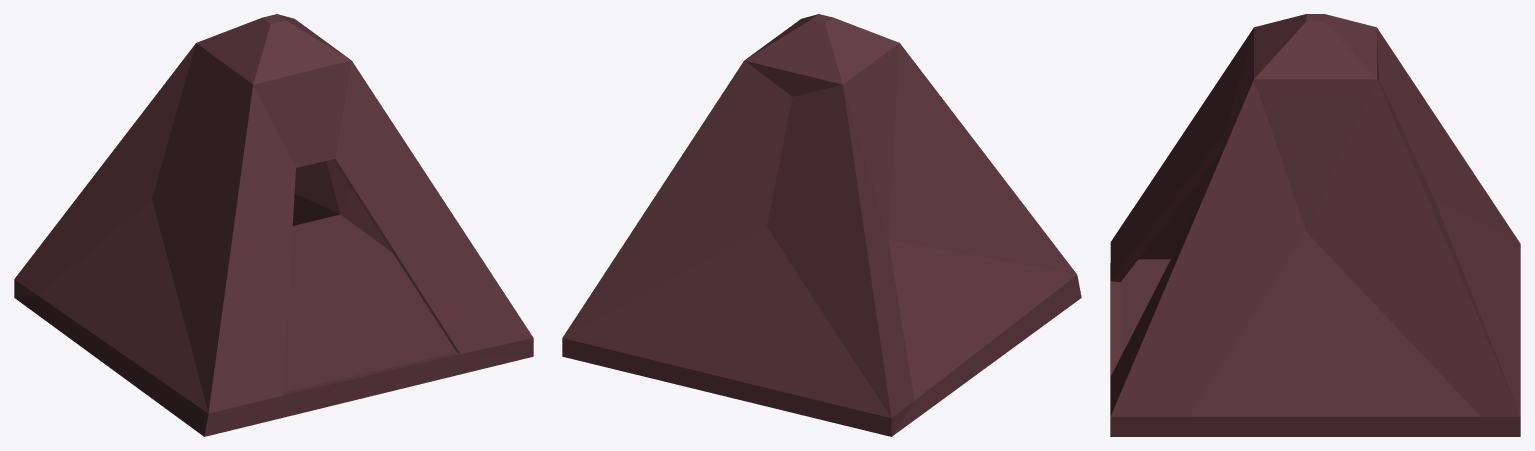
The model's file is props-tent-small.glb.
3 renders of one model, left to right at view 1: azimuth 30°, elevation 25°; view 2: azimuth 150°, elevation 25°; view 3: azimuth 270°, elevation 25°, orthographic. The views are drawn at different scales.
Parts seen in each view (by area): view 1: tent-small; view 2: tent-small; view 3: tent-small.
Boxes of the visible parts, bbox=[...] form: tent-small: bbox=[14, 14, 533, 436]; tent-small: bbox=[562, 14, 1081, 436]; tent-small: bbox=[1110, 14, 1520, 436].
Bounding box in the file's own units: 2.31 × 2.06 × 2.31.
